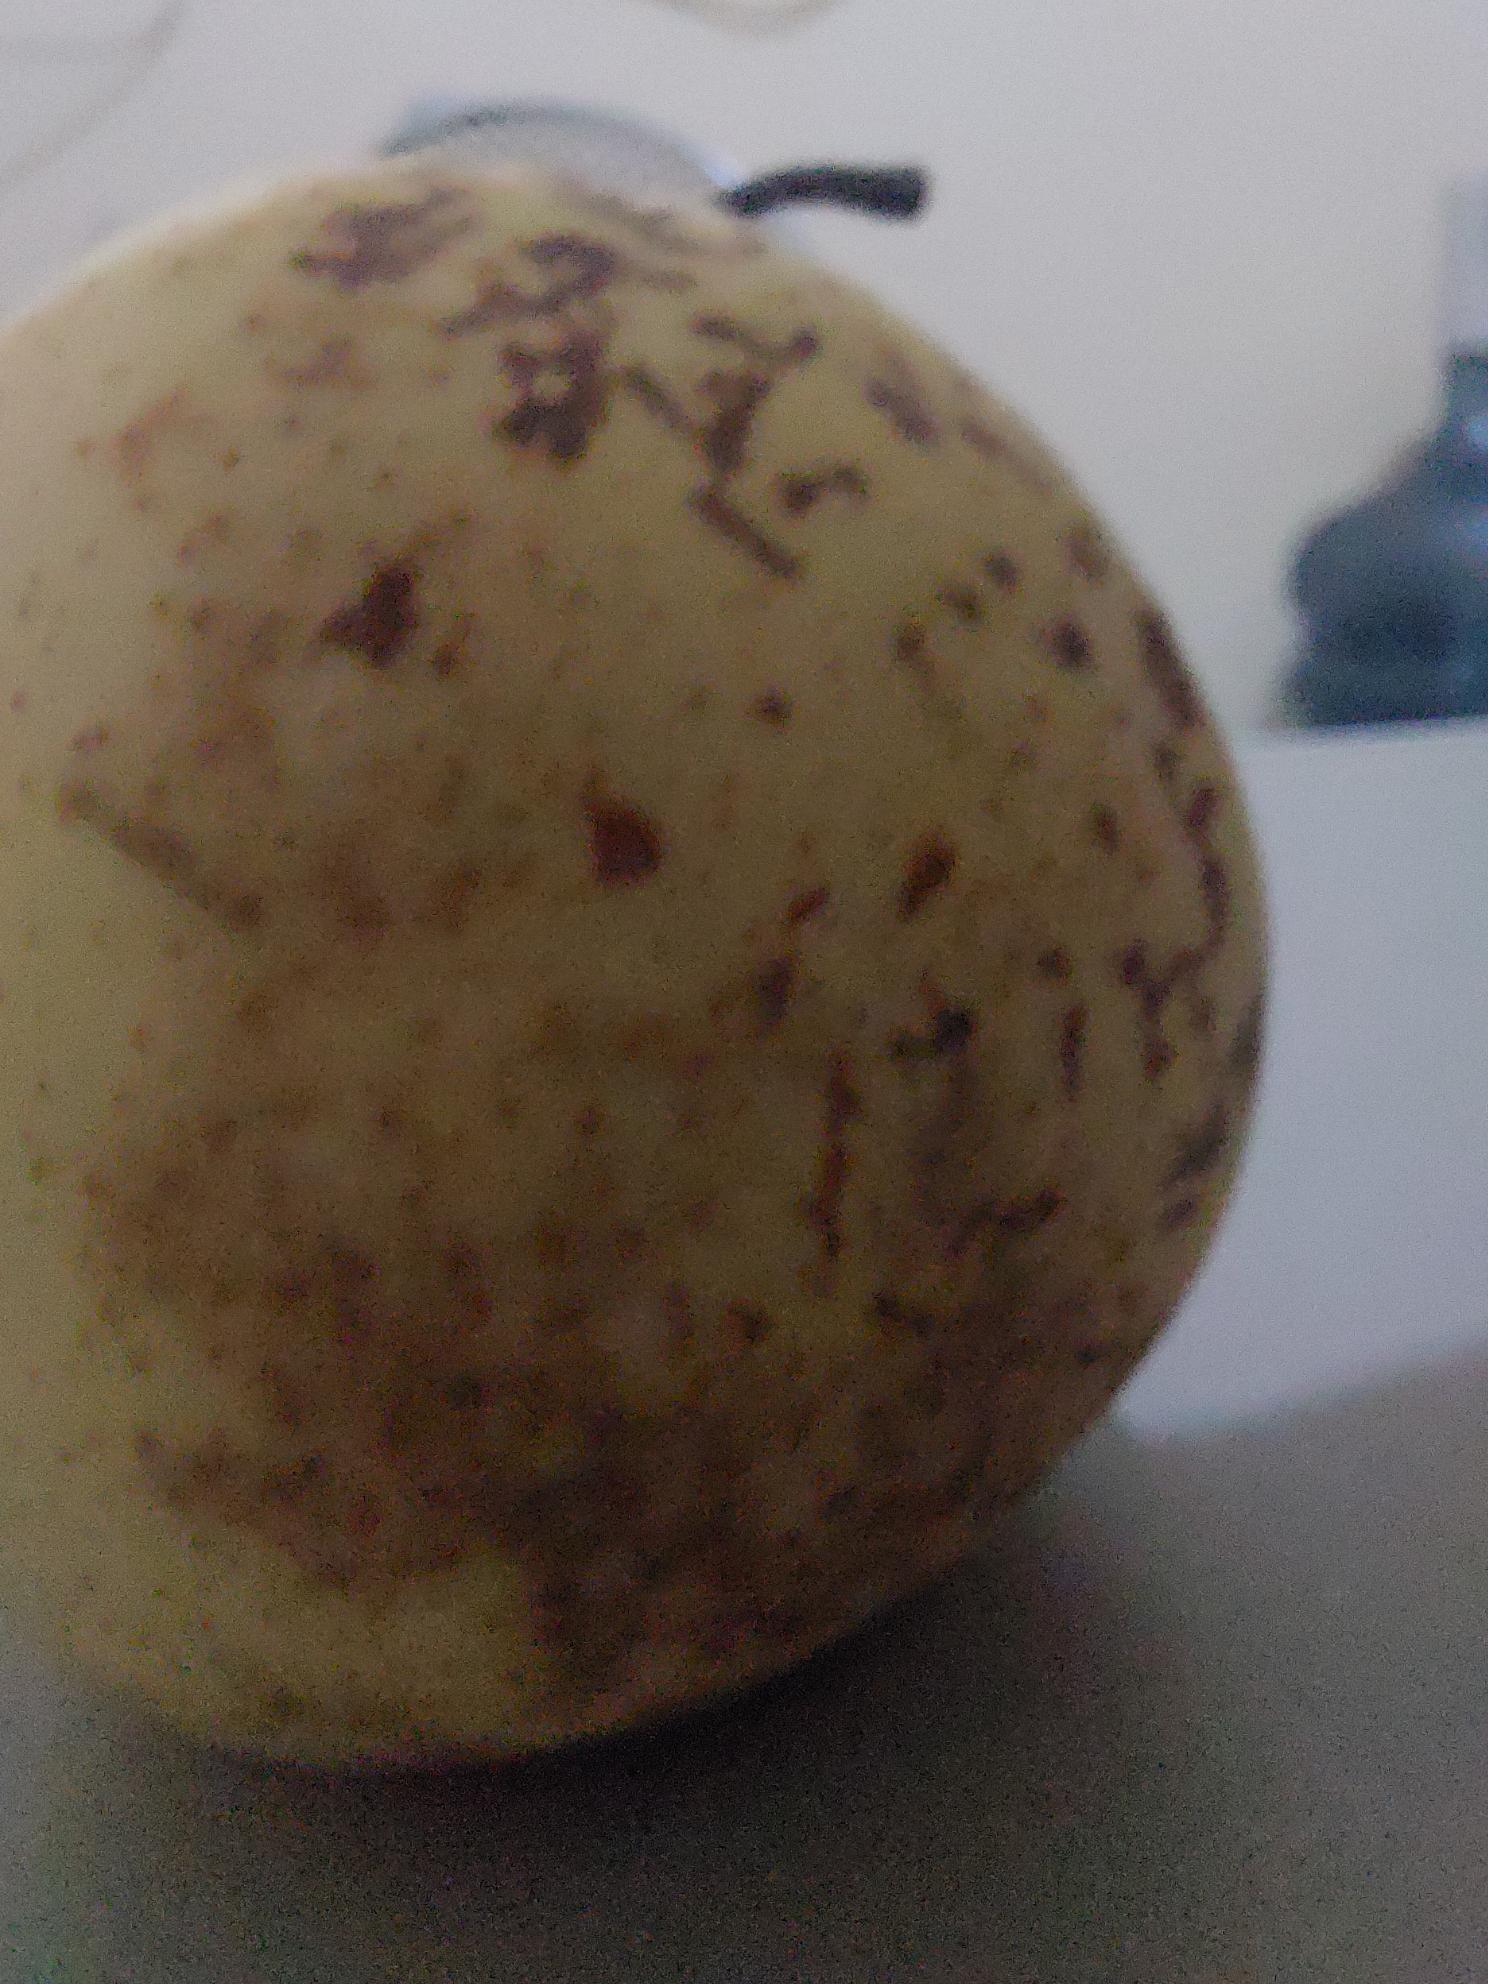Bad Pear: (0, 102, 1310, 1809)
